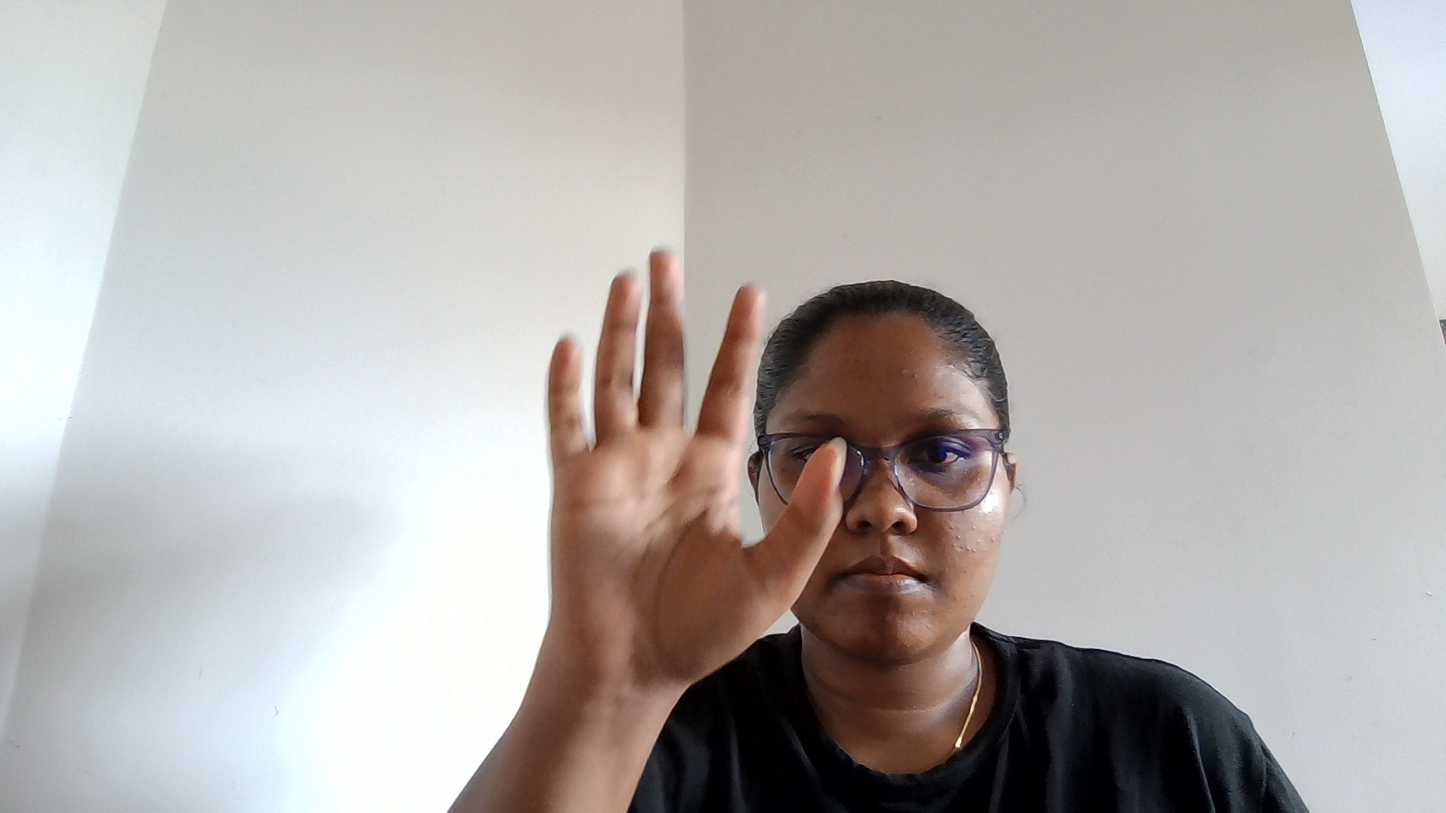I Love You: (422, 223, 882, 730)
